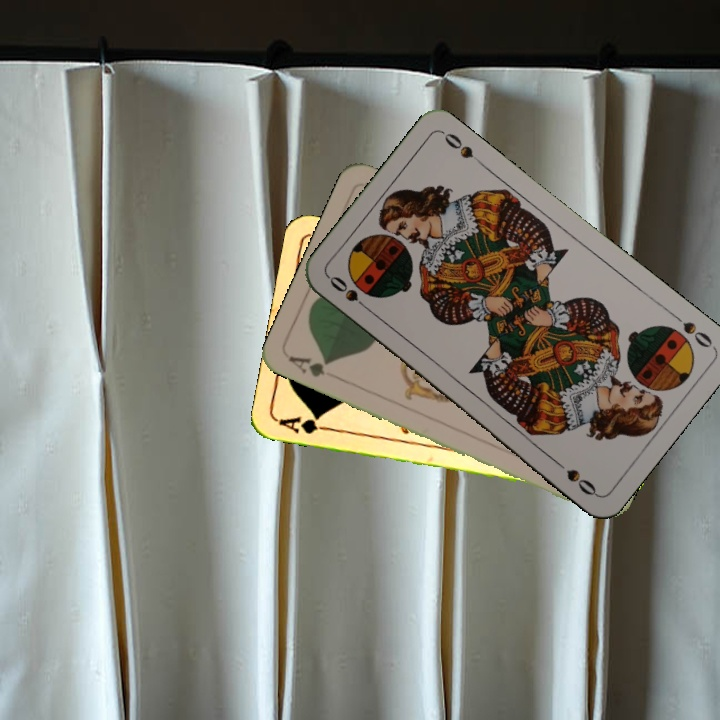GA: (274, 412, 334, 437), (284, 351, 333, 380)
SO: (325, 271, 374, 315), (667, 308, 715, 351)
